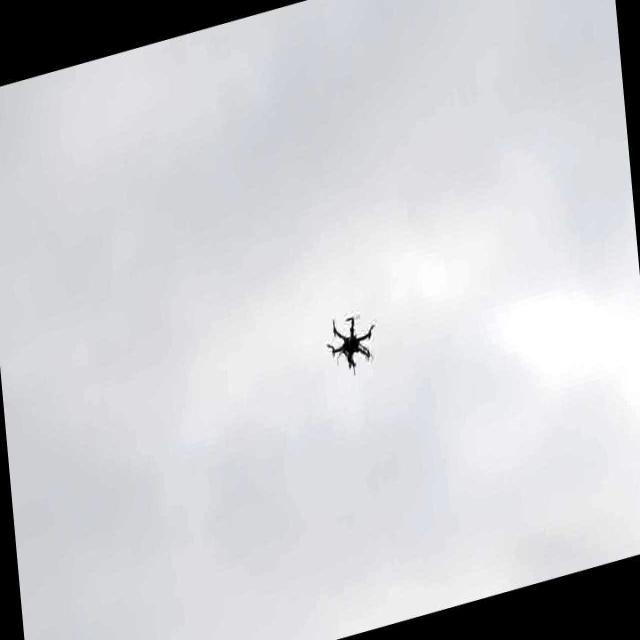drone: (324, 301, 377, 383)
